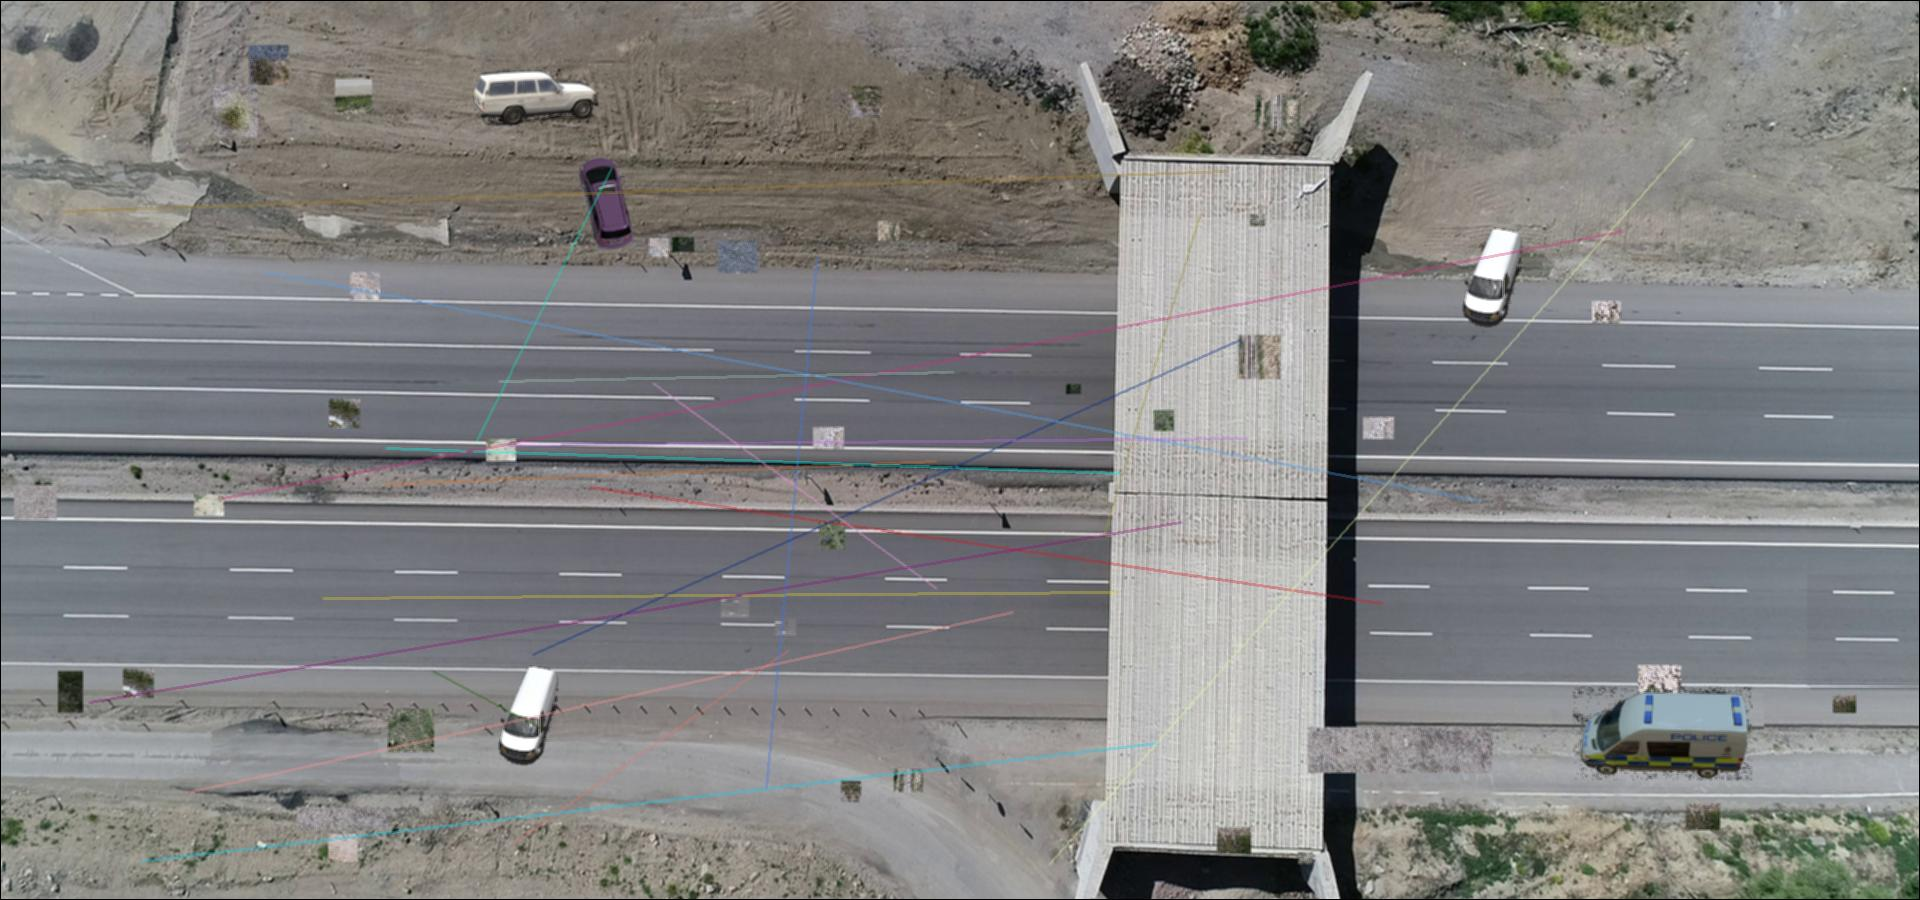arac: (1573, 687, 1752, 780), (474, 69, 598, 126), (500, 664, 560, 765), (1463, 227, 1523, 327), (578, 158, 640, 251)
